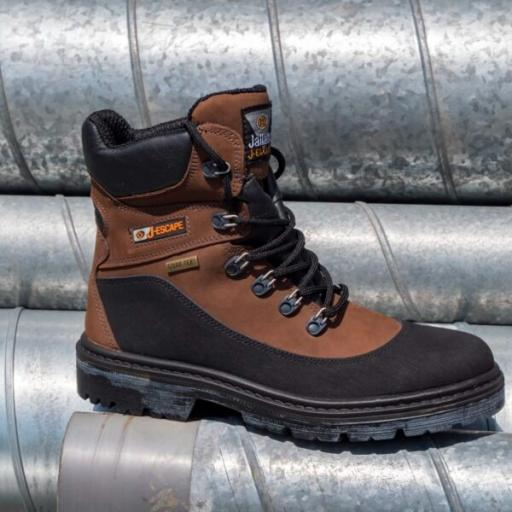safety_boots: (69, 101, 503, 443)
